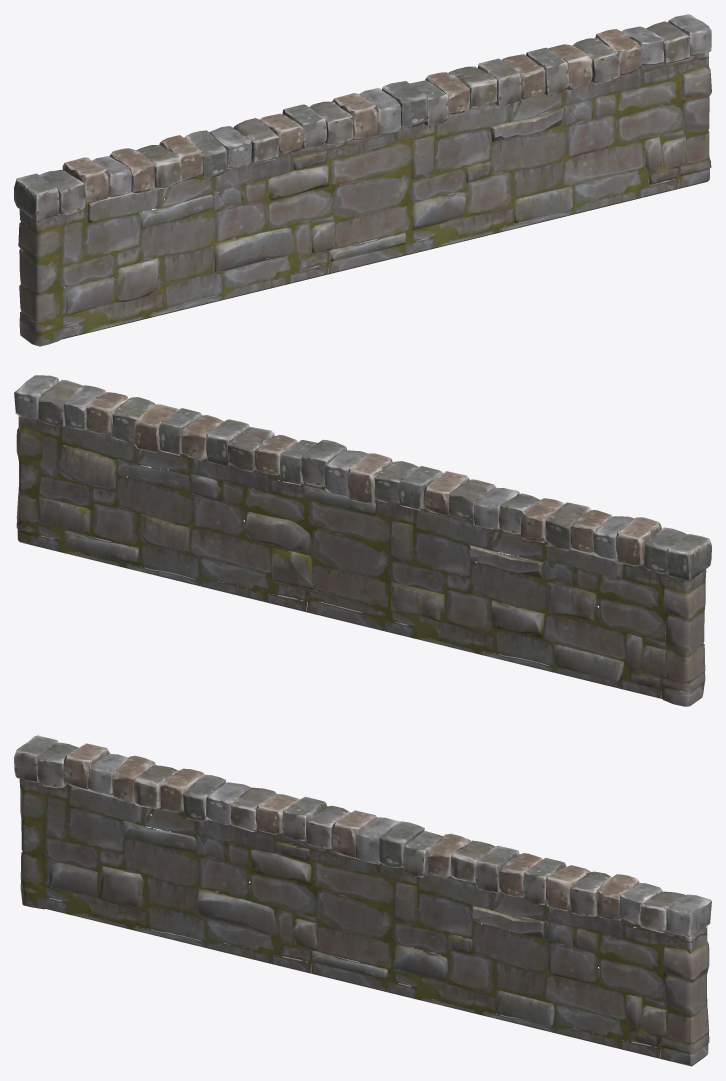
3 renders of one model, top to bottom at view 1: azimuth 30°, elevation 25°; view 2: azimuth 150°, elevation 25°; view 3: azimuth 330°, elevation 25°, orthographic.
Parts seen in each view (by area): view 1: SM_River_Bridge_Wall_01_v6_LOD0; view 2: SM_River_Bridge_Wall_01_v6_LOD0; view 3: SM_River_Bridge_Wall_01_v6_LOD0.
Boxes of the visible parts, <box> form: SM_River_Bridge_Wall_01_v6_LOD0: <box>14,14,711,346</box>; SM_River_Bridge_Wall_01_v6_LOD0: <box>14,375,711,706</box>; SM_River_Bridge_Wall_01_v6_LOD0: <box>14,735,711,1066</box>.
Size of the model in its own units: 8.09 by 1.83 by 0.528.
2 materials, 2 textured.
